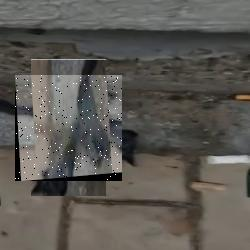plastic: (15, 75, 122, 181)
